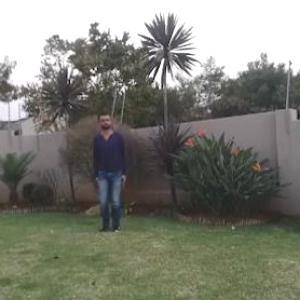follow: (92, 106, 130, 234)
